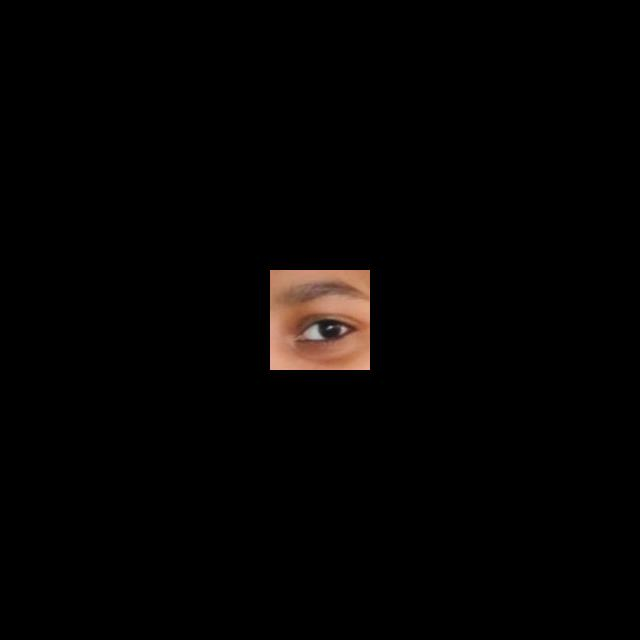eye: (303, 320, 351, 339)
iris: (319, 320, 340, 338)
